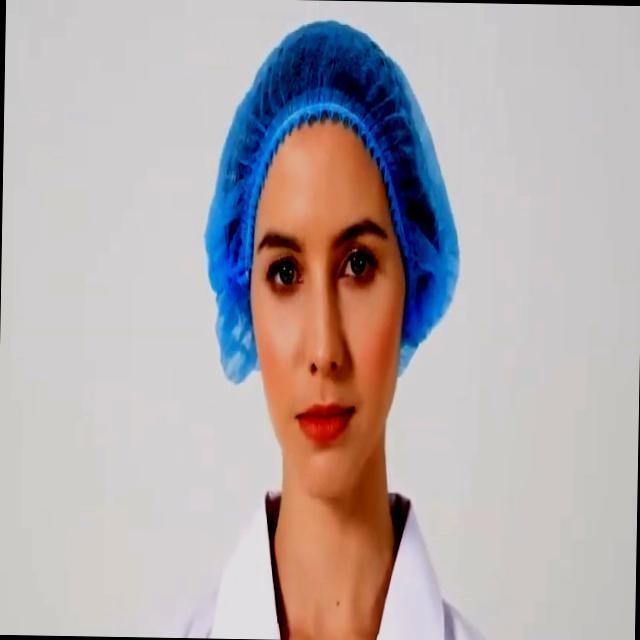gloves: (254, 33, 420, 215)
no_hairnet: (263, 324, 368, 484)
